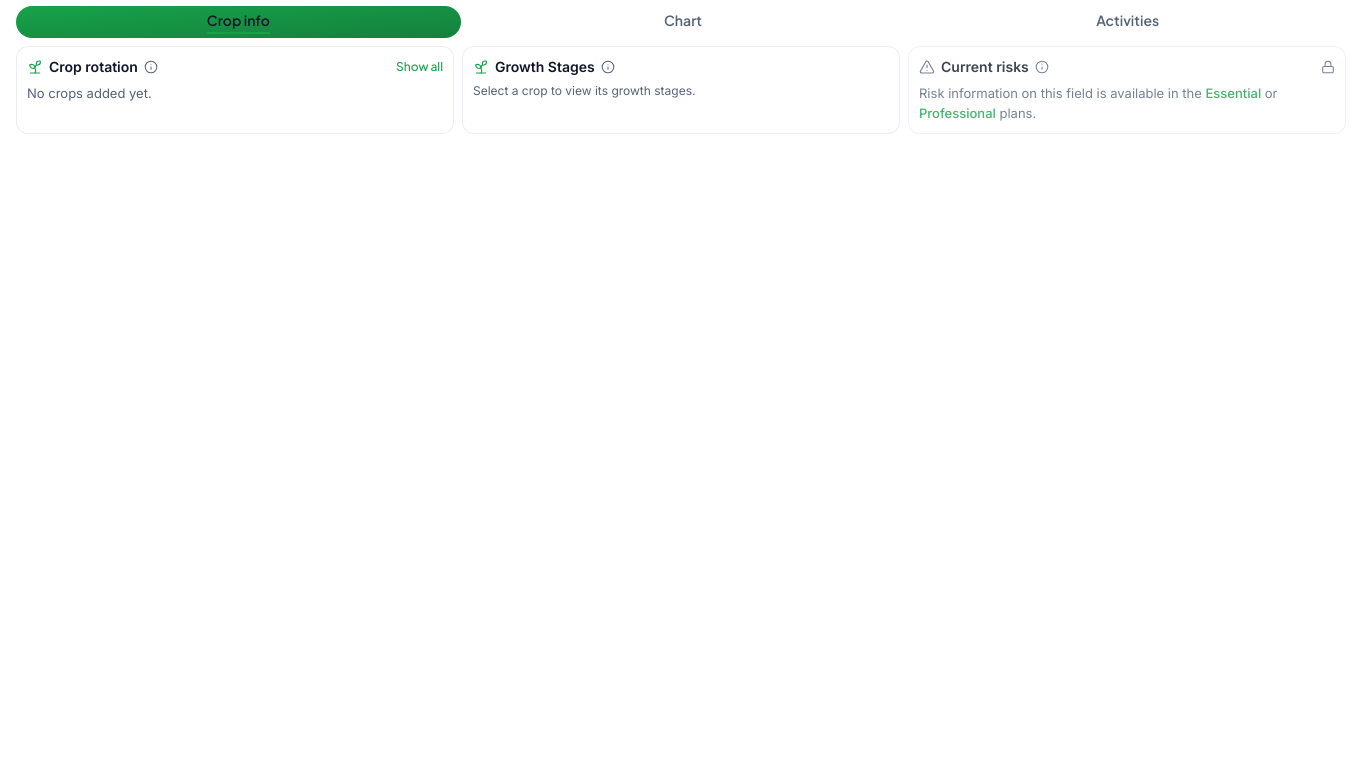
Scenario: IndexPanel tabbed analytics (Phase F) › keeps native provider compatibility and hides pipeline UI when metadata is absent
The image size is (1366, 768).
Press the mouse on the tab with test id "index-panel-tab-chart" at point(683, 22), box [461,6,905,38]
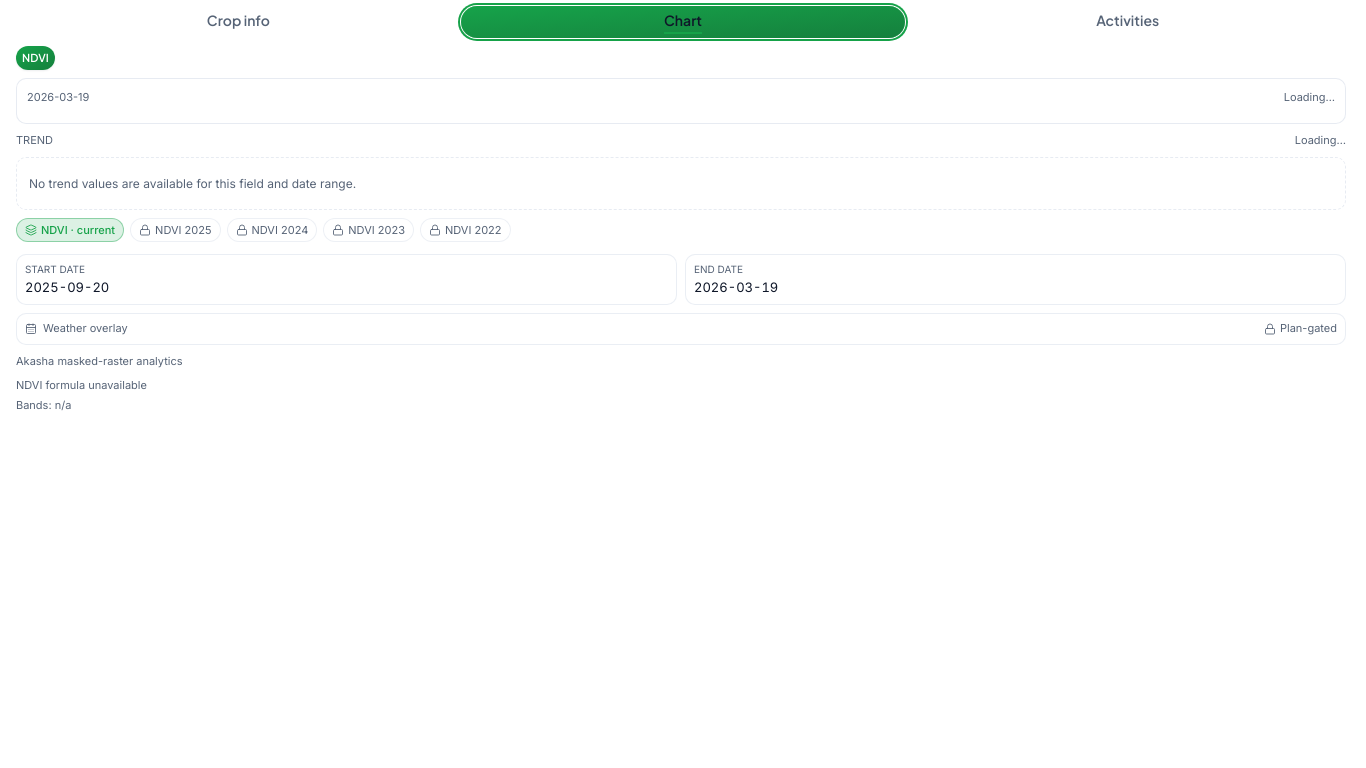
Click the tab with test id "index-panel-tab-chart". click: point(683, 22)
box: [461,6,905,38]
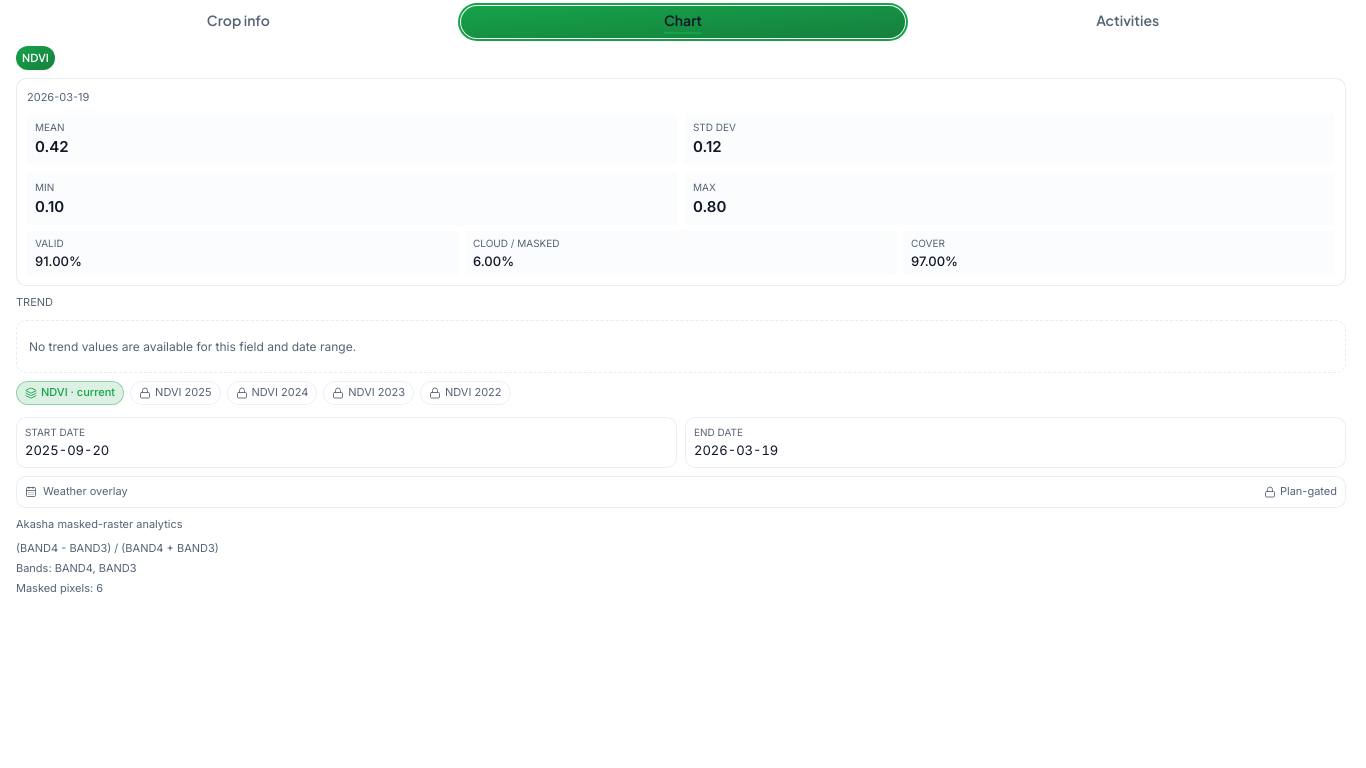
expect the text "0.42" is shown: met, box [35,137,69,156]
